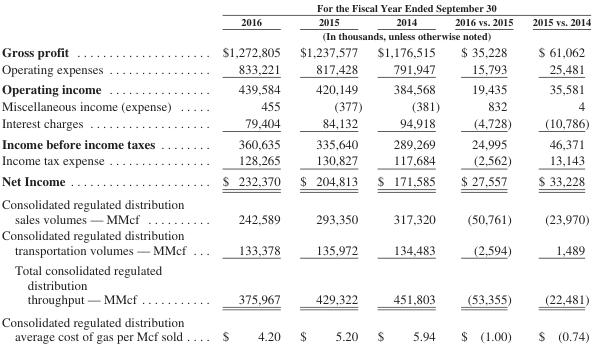table: (0, 1, 590, 343)
table column: (0, 1, 203, 343), (203, 1, 289, 343), (289, 1, 369, 343), (369, 1, 446, 343), (446, 1, 522, 343), (522, 1, 590, 343)
table column header: (0, 1, 590, 42)
table row: (0, 259, 590, 309), (0, 192, 590, 226), (0, 309, 590, 343), (0, 226, 590, 259), (0, 170, 590, 192), (0, 59, 590, 78), (0, 78, 590, 97), (0, 132, 590, 151), (0, 151, 590, 170), (0, 114, 590, 132), (0, 42, 590, 59), (0, 97, 590, 114), (0, 14, 590, 28), (0, 28, 590, 42), (0, 1, 590, 14)
table spanning cell: (203, 28, 590, 42), (203, 1, 590, 14)
